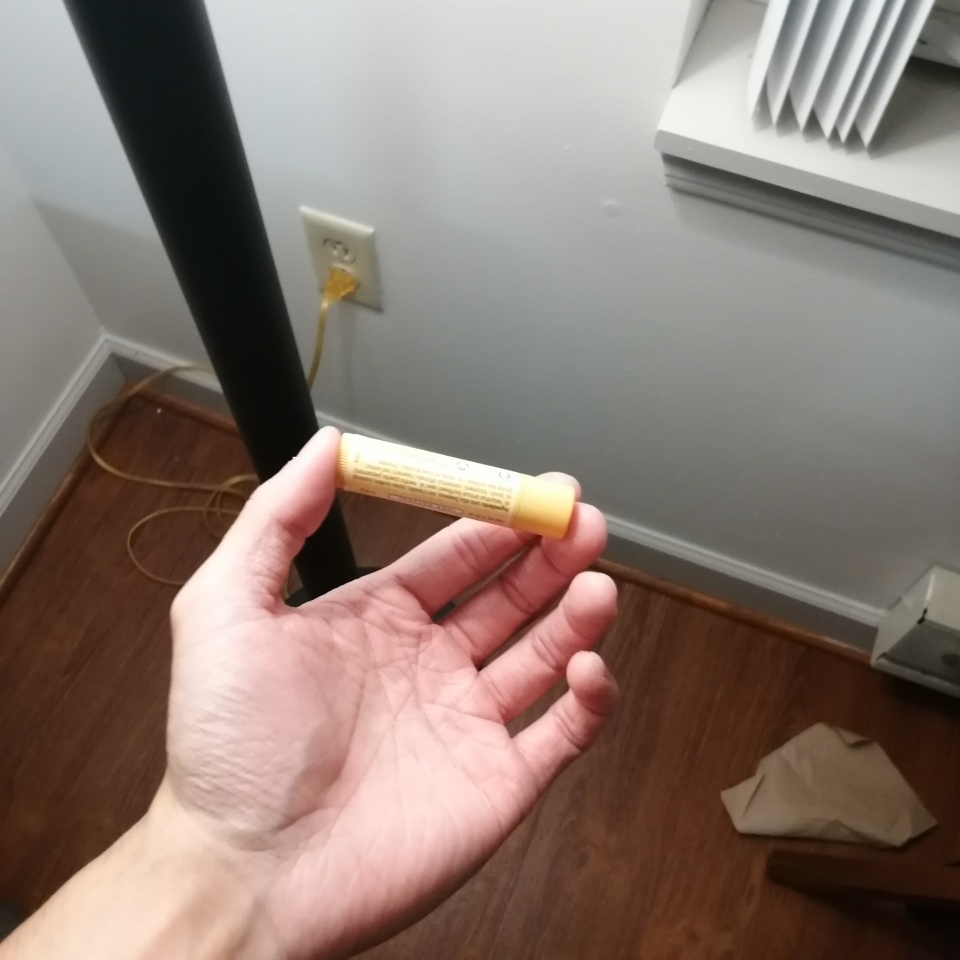chapstick: (334, 432, 576, 541)
